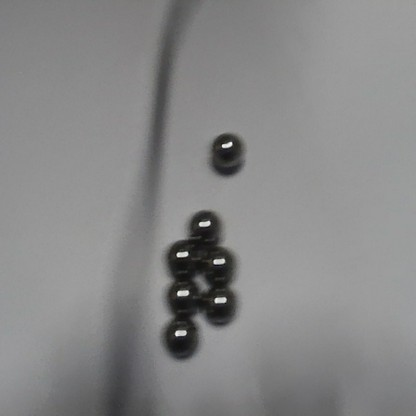ironball: (160, 313, 202, 362), (207, 127, 248, 173), (195, 243, 237, 287), (164, 238, 204, 280), (199, 282, 237, 326), (162, 278, 202, 317), (185, 204, 223, 245)
